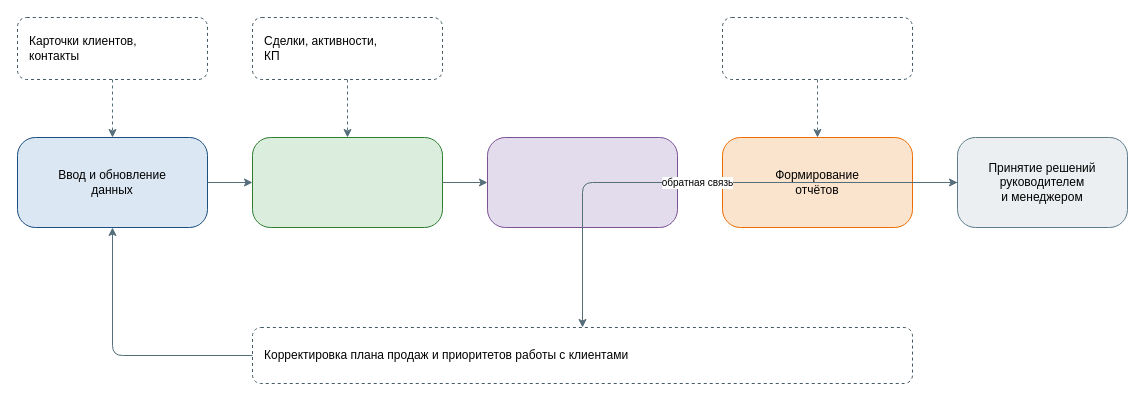
Image size: 1145x401. Some labels were removed from this diagram. Each missing label, with the centre of its shape:
"Воронка, динамика, активности менеджеров" goes at pixel 817 48.
"Обработка: стадии, сроки, агрегация" goes at pixel 582 182.
"Проверка и хранение в СУБД" goes at pixel 347 182.
